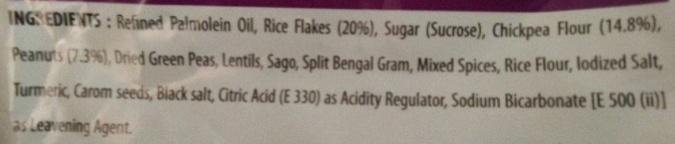ingredients: (4, 3, 675, 141)
